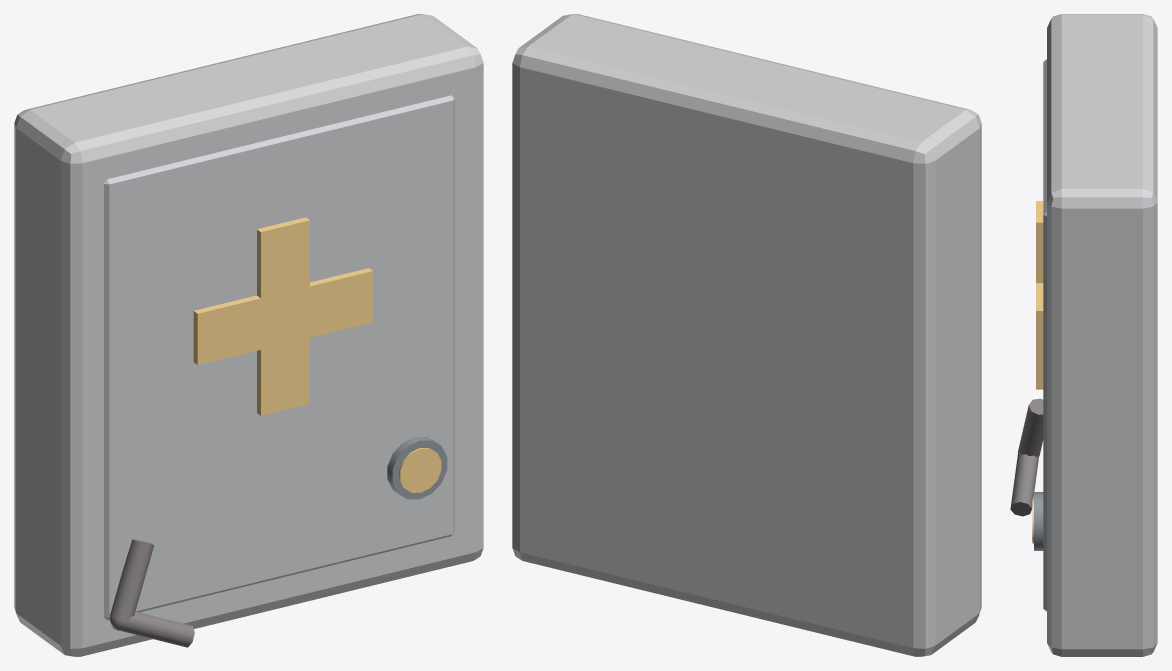
File: health_station.glb
3 views of the same model, side by side, from view 1: azimuth 30°, elevation 25°; view 2: azimuth 150°, elevation 25°; view 3: azimuth 270°, elevation 25° (orthographic). The views are drawn at different scales.
Parts seen in each view (by area): view 1: medic*0.8, medic, lit.001, lit, iron, iron.001, steel, lit.002; view 2: medic; view 3: medic, medic*0.8, iron.001, iron, lit.001, lit, steel.
Part boxes in pixels (x1,y1,x2,y2): medic*0.8: [104, 95, 454, 619]; medic: [14, 14, 483, 656]; lit.001: [257, 217, 309, 415]; lit: [193, 268, 373, 364]; iron: [110, 539, 153, 621]; iron.001: [120, 611, 194, 647]; steel: [387, 437, 447, 499]; lit.002: [399, 448, 441, 492]; medic: [512, 14, 981, 656]; medic: [1047, 14, 1157, 656]; medic*0.8: [1043, 59, 1046, 611]; iron.001: [1010, 452, 1039, 516]; iron: [1018, 398, 1043, 456]; lit.001: [1036, 201, 1043, 389]; lit: [1036, 283, 1043, 357]; steel: [1034, 492, 1043, 550].
Size of the model in its own units: 1.2 by 1.4 by 0.3995.
